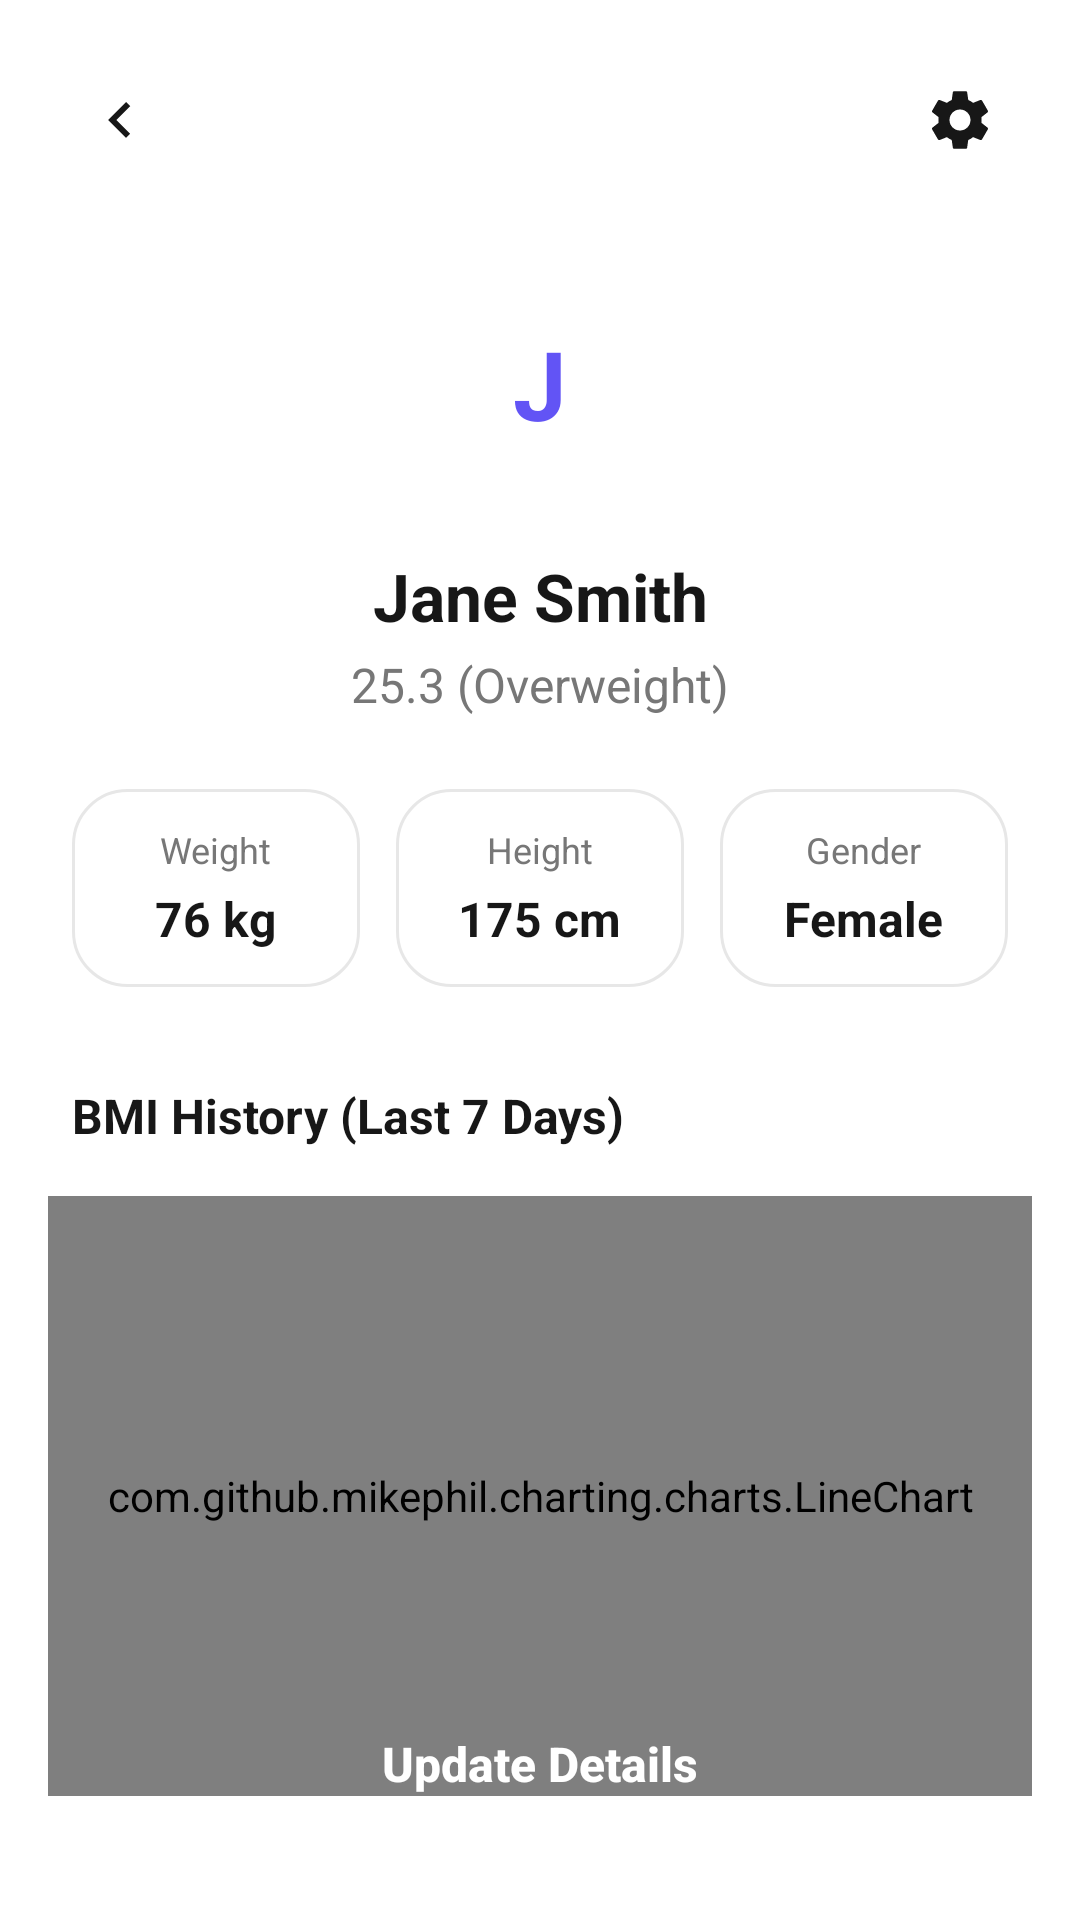

Where icons sit on this 1080px x 1920px app screen, as (x1, y1, x2, y2):
arrow left: (108, 102, 130, 138)
settings: (932, 91, 988, 149)
